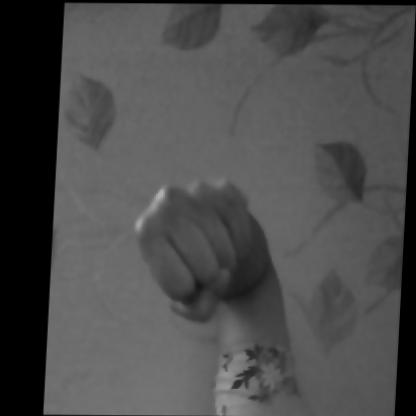fist: (114, 150, 308, 345)
